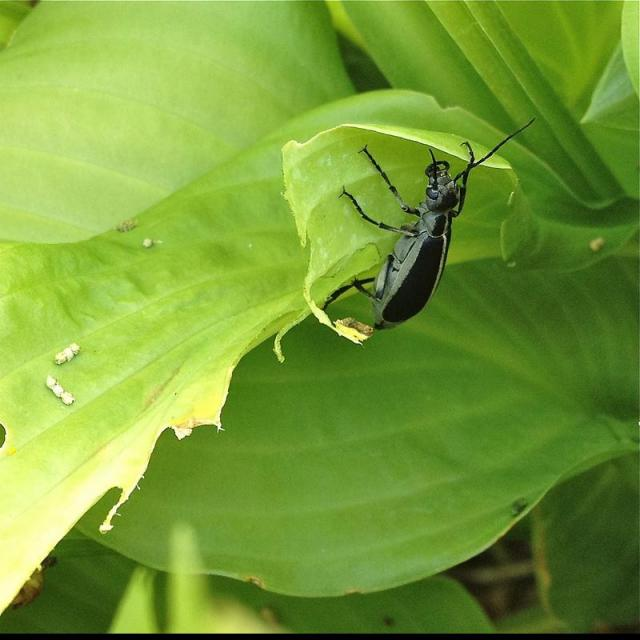BlisterBeetle-Adult-: (316, 117, 546, 336)
